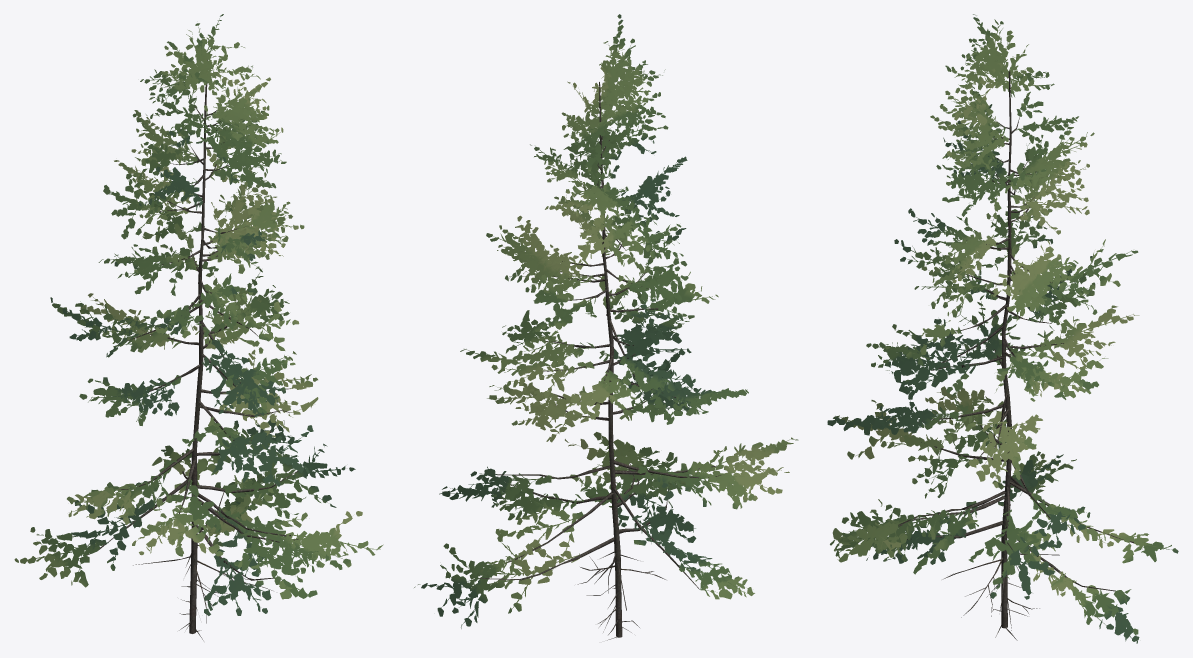
Rendered from grounded-conifer-quiet.glb.
3 renders of one model, left to right at view 1: azimuth 30°, elevation 25°; view 2: azimuth 150°, elevation 25°; view 3: azimuth 270°, elevation 25°, orthographic. The views are drawn at different scales.
Visible parts, largest first — view 1: grounded-conifer-quiet runtime mesh; view 2: grounded-conifer-quiet runtime mesh; view 3: grounded-conifer-quiet runtime mesh.
Part boxes in pixels (x1=…): grounded-conifer-quiet runtime mesh: x1=14, y1=14, x2=383, y2=640; grounded-conifer-quiet runtime mesh: x1=414, y1=14, x2=798, y2=640; grounded-conifer-quiet runtime mesh: x1=827, y1=14, x2=1178, y2=643.
Bounding box in the file's own units: 3.07 × 5.59 × 2.83.
Materials: 3 (2 with a texture image).
